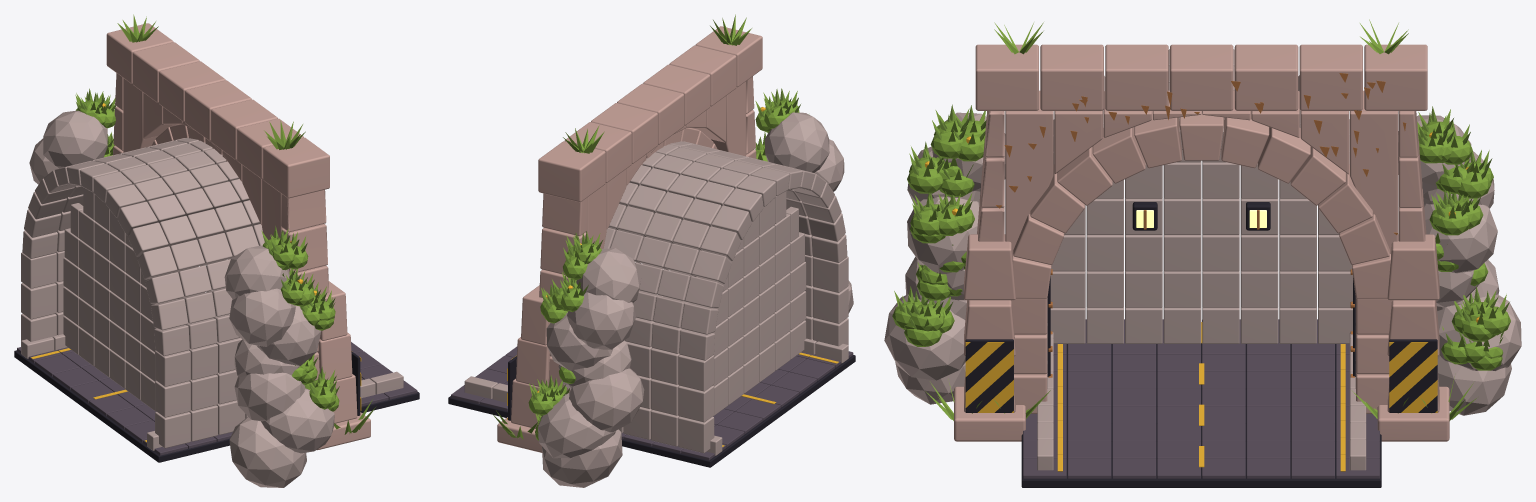
3 views of the same model, side by side, from view 1: azimuth 30°, elevation 25°; view 2: azimuth 150°, elevation 25°; view 3: azimuth 270°, elevation 25° (orthographic). The views are drawn at different scales.
Visible parts, largest first — view 1: roof_pal_sidewalk, body_pal_sidewalk, roof_pal_infectedSkin, interior_end_pal_sidewalk, interior_pal_sidewalk, body_pal_infectedSkin, body_pal_foliage, interior_pal_asphalt, interior_pal_uiDark, body_pal_grass; view 2: roof_pal_sidewalk, body_pal_sidewalk, roof_pal_infectedSkin, interior_end_pal_sidewalk, interior_pal_sidewalk, body_pal_infectedSkin, interior_pal_asphalt, body_pal_foliage, interior_pal_uiDark, body_pal_grass; view 3: roof_pal_infectedSkin, interior_end_pal_sidewalk, interior_pal_asphalt, body_pal_infectedSkin, body_pal_sidewalk, body_pal_foliage, interior_pal_uiDark, body_pal_uiDark, body_pal_schoolBusYellow, body_pal_grass, interior_pal_sidewalk, interior_pal_schoolBusYellow (+1 smaller).
Part boxes in pixels (x1=…): roof_pal_sidewalk: x1=22, y1=137, x2=264, y2=356; body_pal_sidewalk: x1=29, y1=110, x2=334, y2=487; roof_pal_infectedSkin: x1=106, y1=23, x2=329, y2=242; interior_end_pal_sidewalk: x1=63, y1=187, x2=184, y2=411; interior_pal_sidewalk: x1=21, y1=251, x2=403, y2=450; body_pal_infectedSkin: x1=113, y1=73, x2=370, y2=450; body_pal_foliage: x1=75, y1=14, x2=376, y2=434; interior_pal_asphalt: x1=17, y1=342, x2=417, y2=455; interior_pal_uiDark: x1=14, y1=350, x2=419, y2=462; body_pal_grass: x1=76, y1=88, x2=339, y2=394; roof_pal_sidewalk: x1=603, y1=141, x2=847, y2=360; body_pal_sidewalk: x1=538, y1=112, x2=853, y2=487; roof_pal_infectedSkin: x1=538, y1=26, x2=762, y2=249; interior_end_pal_sidewalk: x1=684, y1=191, x2=806, y2=416; interior_pal_sidewalk: x1=464, y1=255, x2=848, y2=455; body_pal_infectedSkin: x1=497, y1=76, x2=756, y2=452; interior_pal_asphalt: x1=451, y1=346, x2=853, y2=460; body_pal_foliage: x1=492, y1=14, x2=799, y2=440; interior_pal_uiDark: x1=448, y1=355, x2=855, y2=467; body_pal_grass: x1=532, y1=88, x2=800, y2=423; roof_pal_infectedSkin: x1=975, y1=44, x2=1427, y2=298; interior_end_pal_sidewalk: x1=1050, y1=150, x2=1352, y2=343; interior_pal_asphalt: x1=1023, y1=319, x2=1379, y2=478; body_pal_infectedSkin: x1=954, y1=111, x2=1449, y2=441; body_pal_sidewalk: x1=884, y1=112, x2=1521, y2=415; body_pal_foliage: x1=892, y1=19, x2=1510, y2=420; interior_pal_uiDark: x1=1021, y1=276, x2=1381, y2=487; body_pal_uiDark: x1=965, y1=339, x2=1437, y2=412; body_pal_schoolBusYellow: x1=925, y1=132, x2=1479, y2=412; body_pal_grass: x1=898, y1=104, x2=1509, y2=345; interior_pal_sidewalk: x1=1037, y1=297, x2=1366, y2=470; interior_pal_schoolBusYellow: x1=1057, y1=322, x2=1345, y2=471.
Size of the model in its own units: 7.3 by 8.64 by 12.39.
